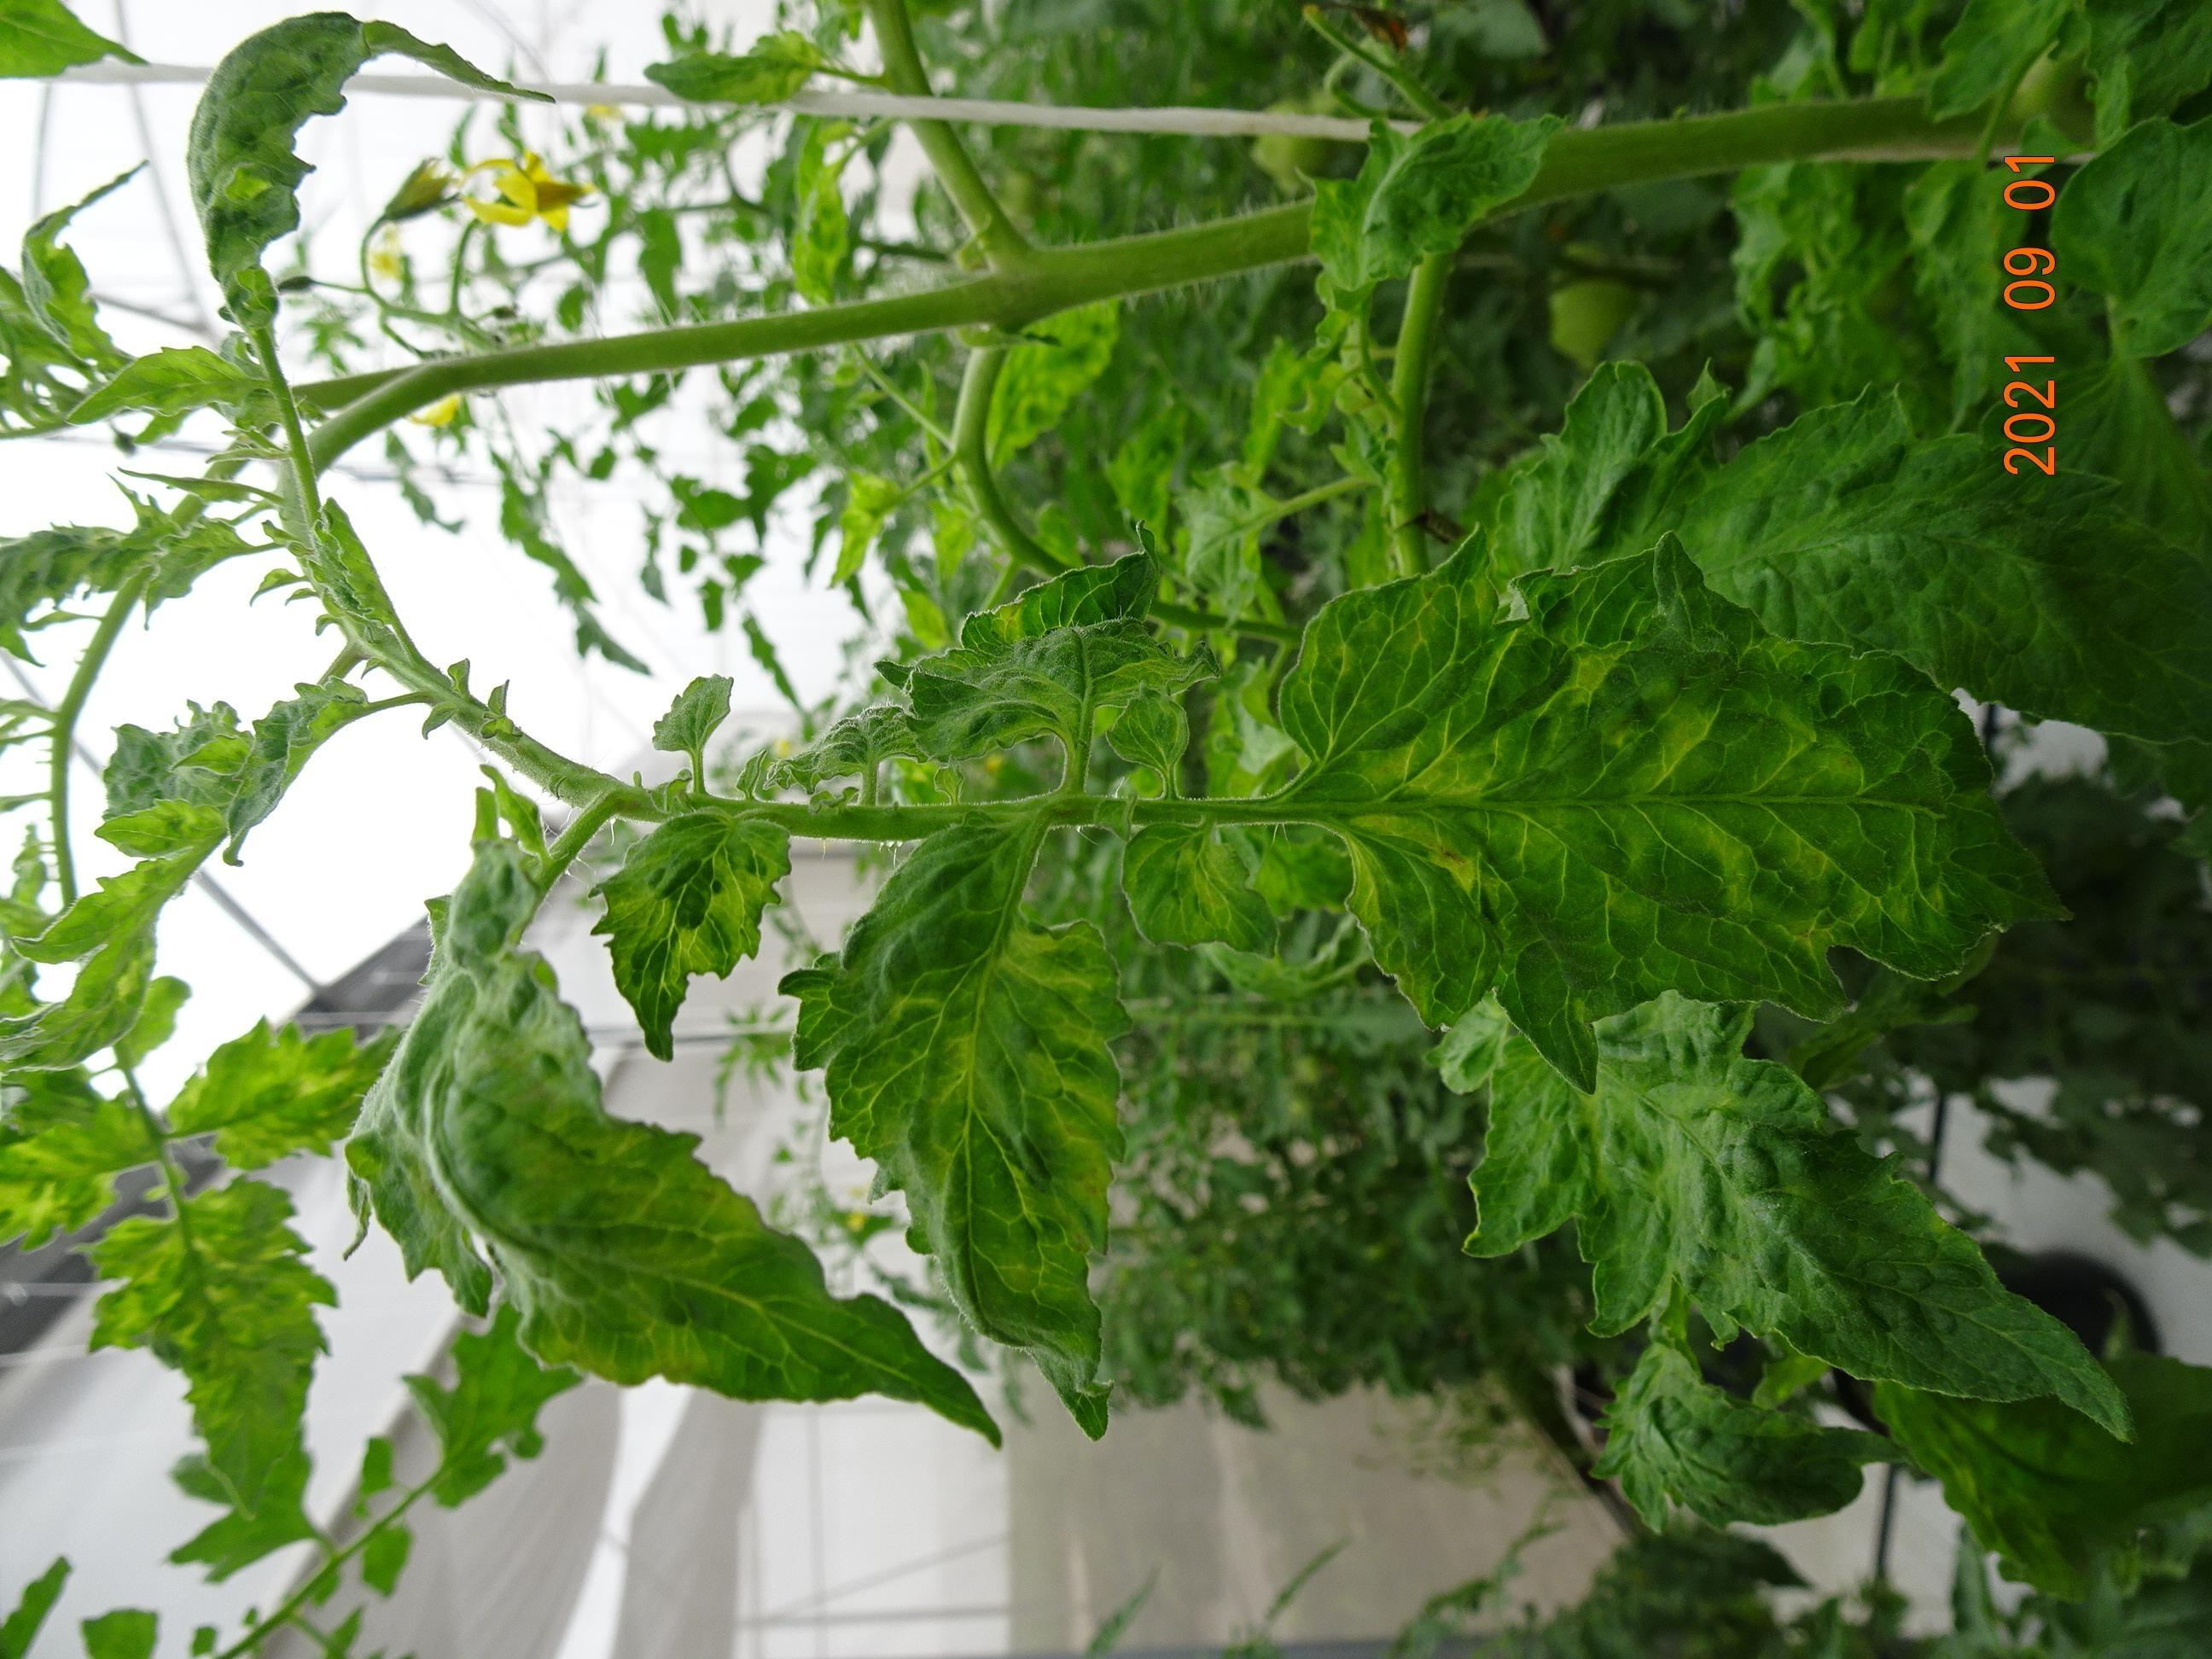Rugose leaf: (1258, 535, 2043, 1089), (350, 864, 995, 1434), (1465, 993, 2125, 1434), (794, 817, 1127, 1434), (592, 812, 791, 1058)
